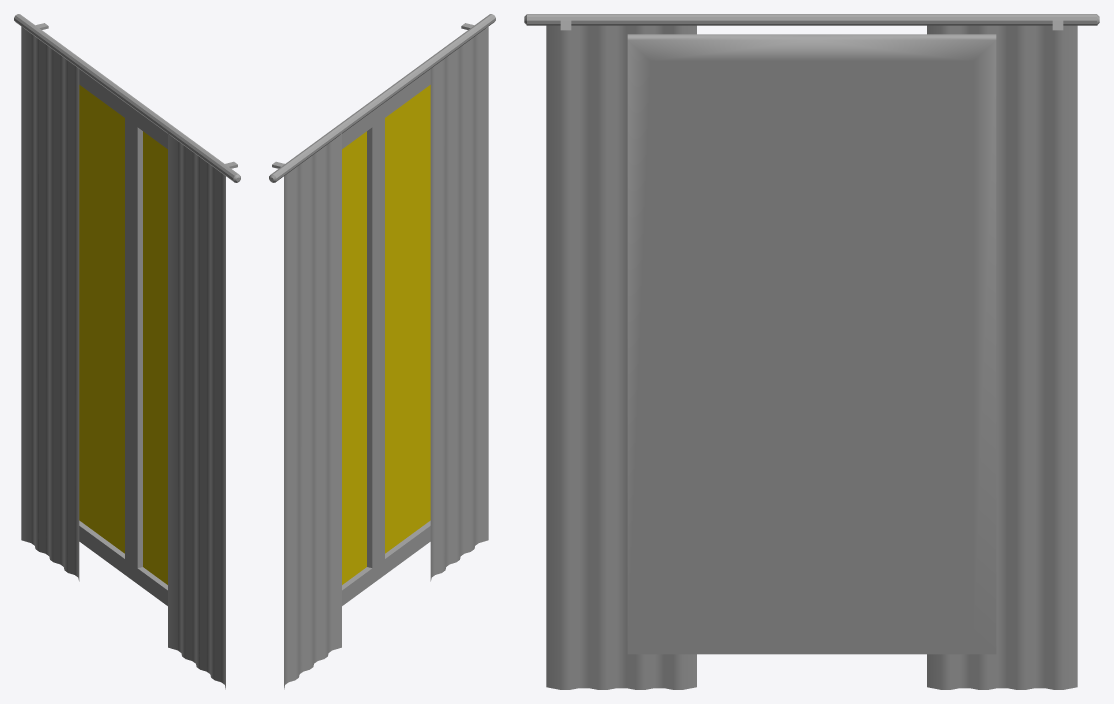
File: windowTileNEW.fbx
3 renders of one model, left to right at view 1: azimuth 30°, elevation 25°; view 2: azimuth 150°, elevation 25°; view 3: azimuth 270°, elevation 25°, orthographic. The views are drawn at different scales.
Parts seen in each view (by area): view 1: windowTile; view 2: windowTile; view 3: windowTile.
Part boxes in pixels (<box>): windowTile: <box>14,14,240,689</box>; windowTile: <box>269,14,495,689</box>; windowTile: <box>524,14,1099,689</box>.
Bounding box in the file's own units: 8.8 × 248 × 191.
